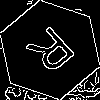R: (25, 25, 84, 83)
